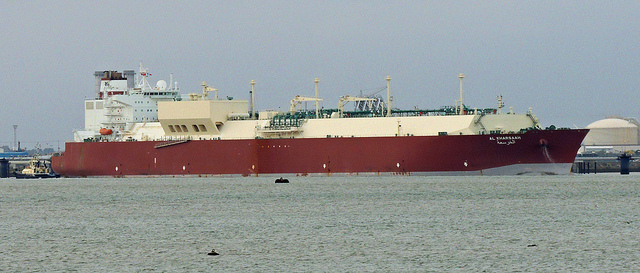LNG_ship: (50, 58, 589, 173)
tug_boat: (11, 147, 57, 179)
